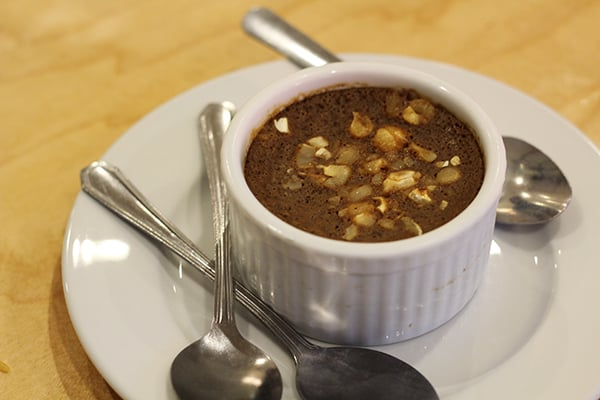salad: (232, 278, 439, 397), (495, 135, 573, 230)
sushi: (216, 55, 507, 347)
